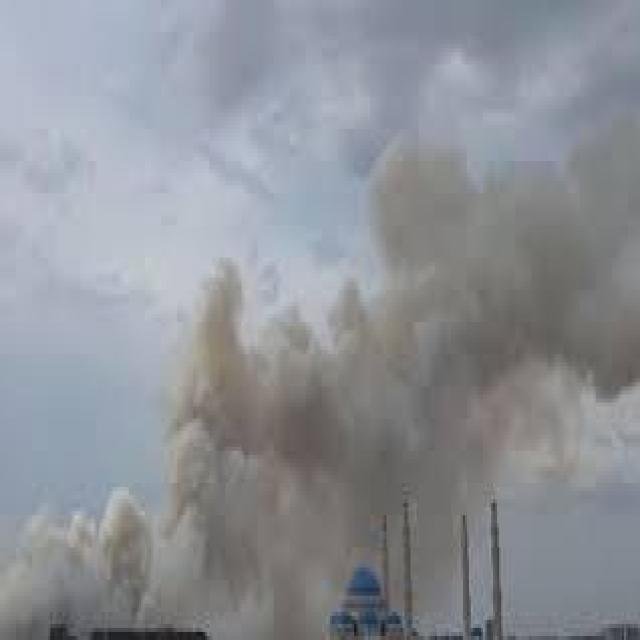Smoke: (16, 147, 640, 640)
